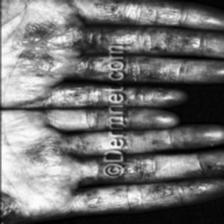Non-Cancerous Skin Condition: (0, 13, 103, 215), (132, 3, 224, 77), (127, 151, 224, 199)
